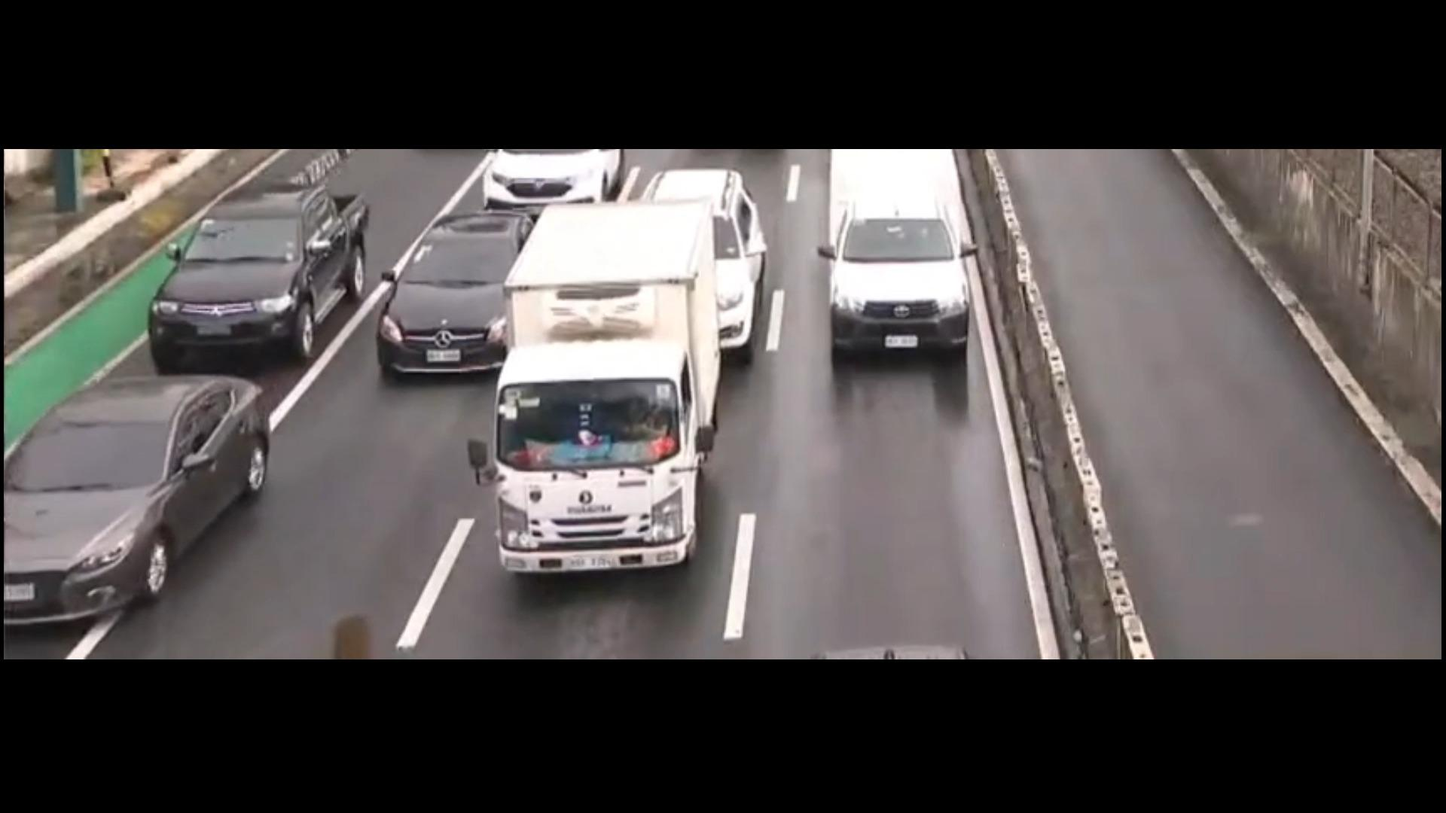Pickup: (135, 166, 375, 380)
SUV: (600, 151, 773, 346), (479, 142, 617, 200)
Sedan: (0, 364, 298, 636), (364, 202, 556, 390)
Truck: (478, 217, 733, 598), (802, 151, 974, 380)
